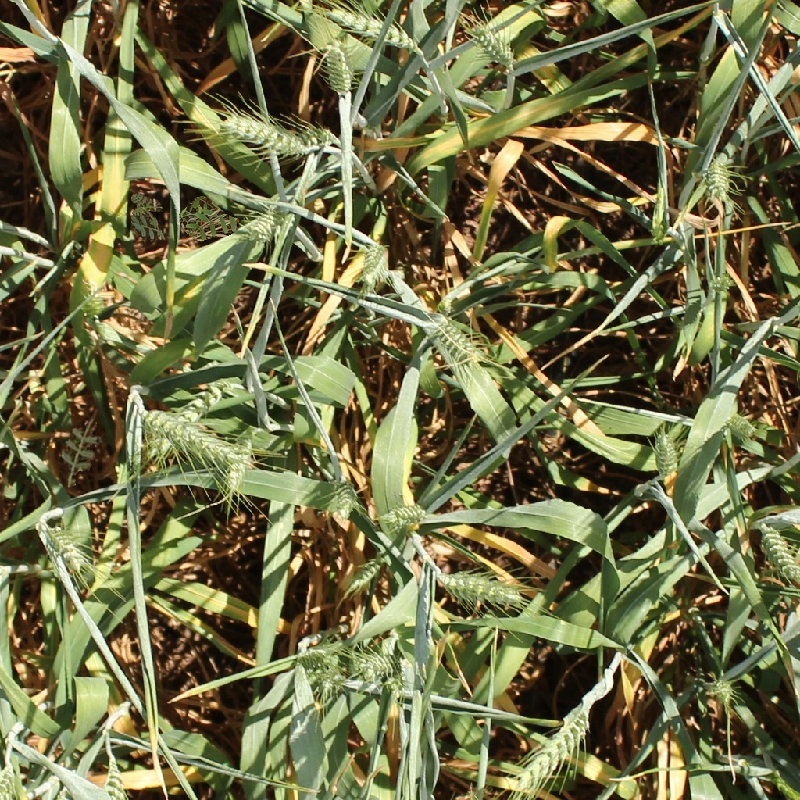spikelet: (511, 703, 593, 795), (141, 406, 250, 468), (220, 111, 330, 157), (329, 3, 421, 51), (434, 565, 527, 608), (425, 312, 484, 370), (171, 376, 242, 423), (754, 519, 800, 583), (41, 519, 91, 571), (235, 200, 295, 243), (466, 21, 517, 70), (350, 645, 394, 693), (321, 37, 355, 97), (220, 437, 256, 493), (648, 427, 683, 480), (321, 474, 361, 520), (356, 240, 390, 289), (380, 499, 430, 532), (700, 152, 733, 201), (388, 652, 421, 701), (347, 553, 387, 593), (293, 643, 336, 672), (721, 411, 757, 444), (101, 761, 130, 799), (702, 268, 736, 300), (77, 287, 108, 320), (706, 675, 736, 705), (1, 760, 19, 799)
weed: (172, 185, 243, 257), (49, 418, 115, 488), (124, 192, 173, 244)
